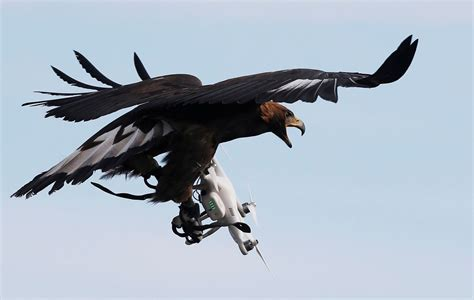drone: (178, 142, 274, 274)
